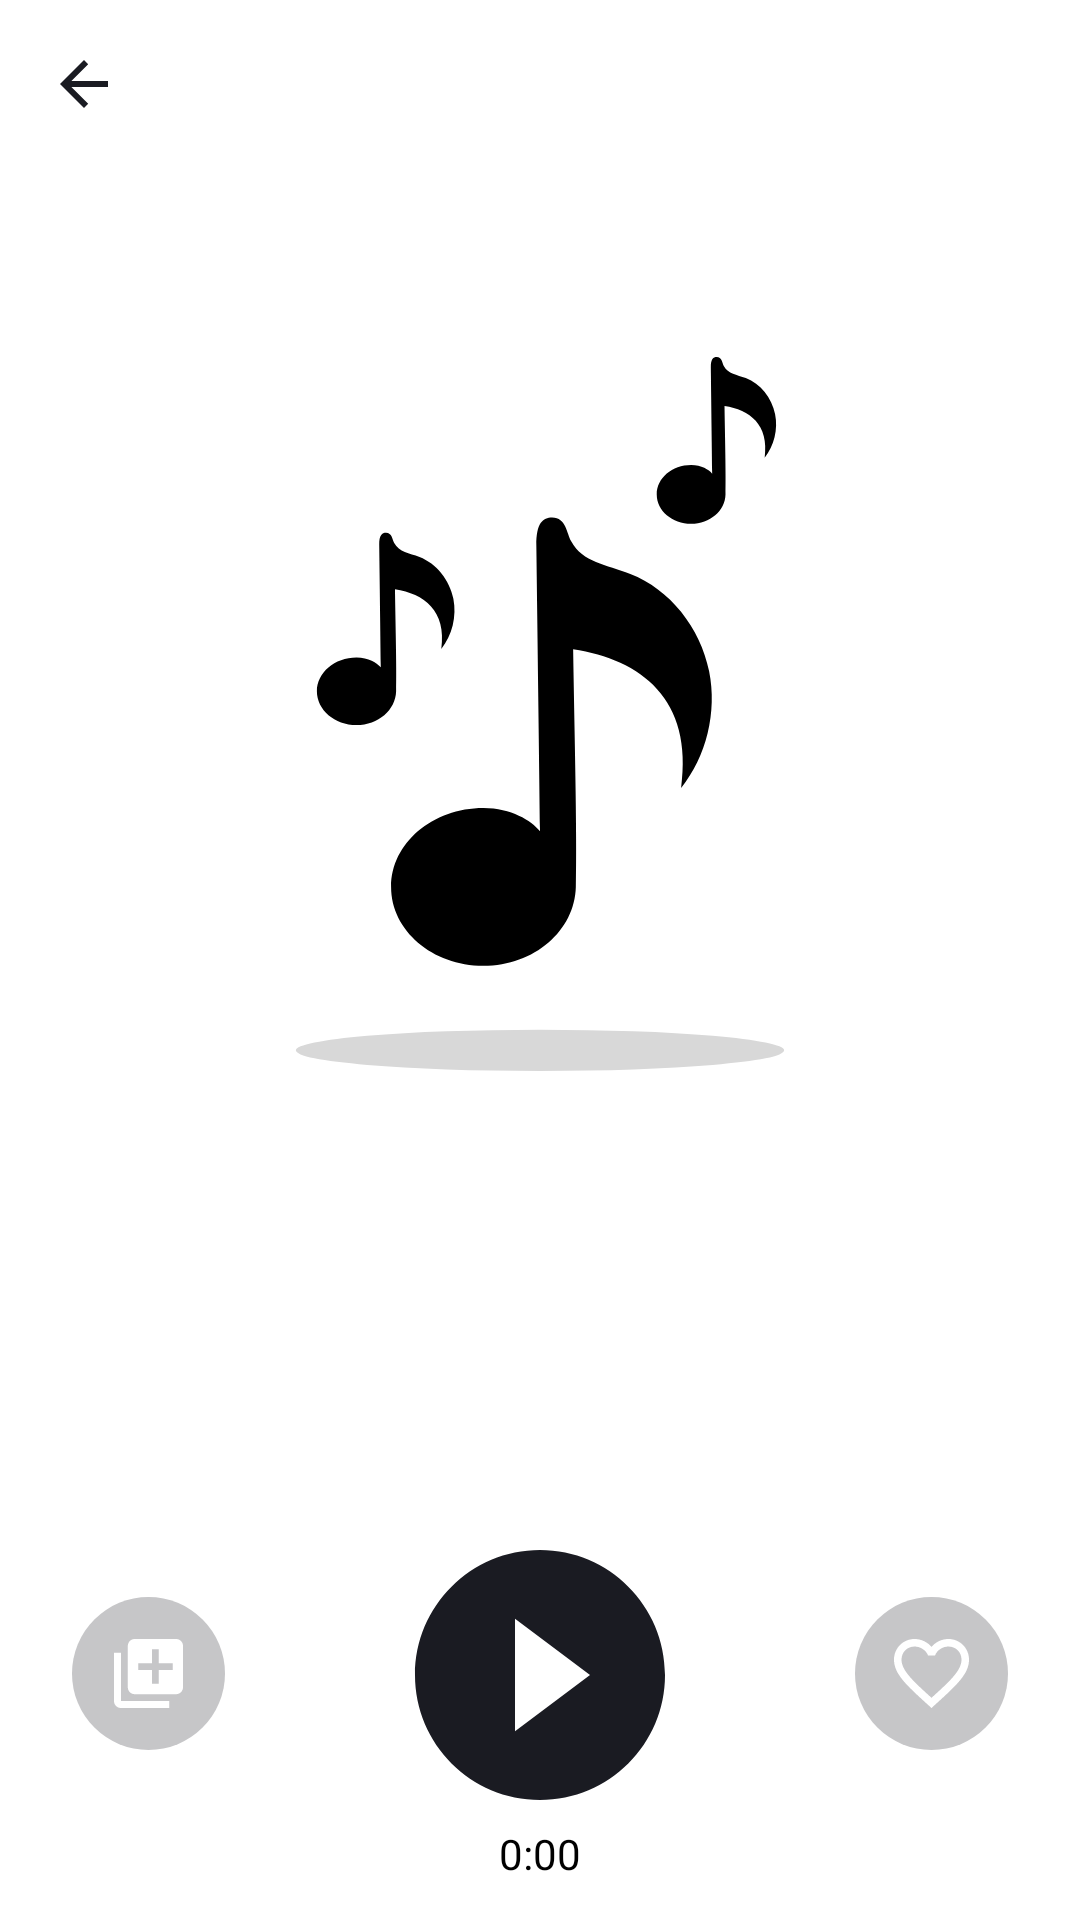

Point at icon controls on the screen. Image size 1080 x 1920, points as point (x, y).
like: point (931, 1673)
play: point (540, 1675)
